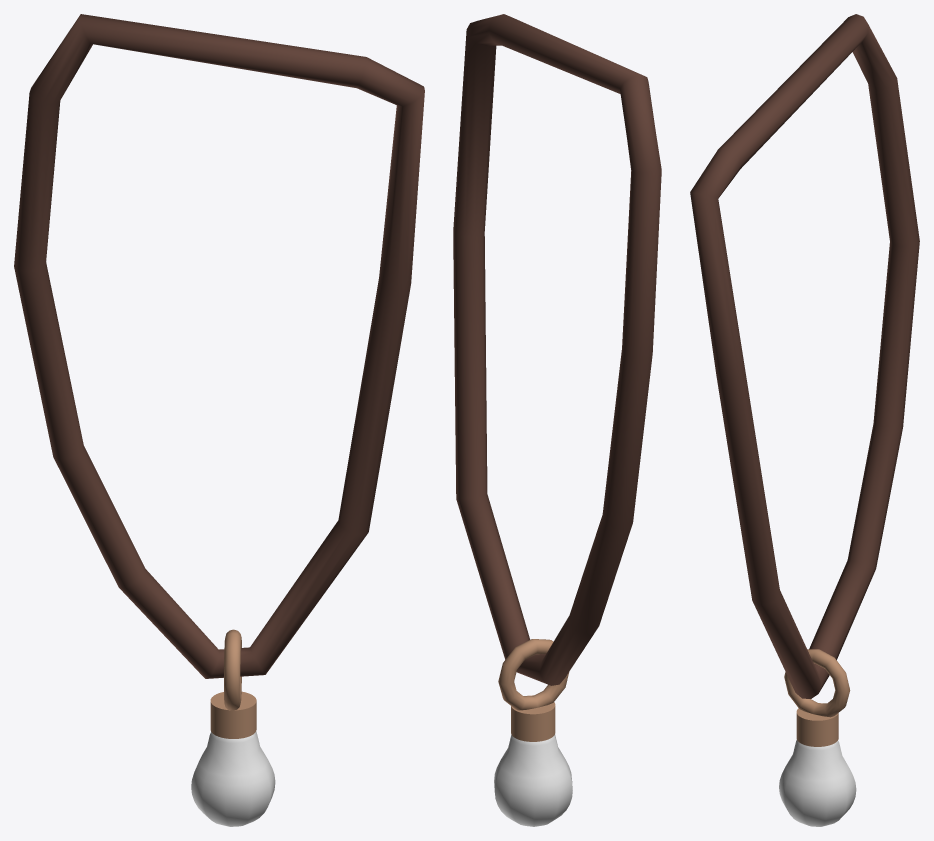
The model's file is SingleLight.fbx.
The picture shows the model from 3 angles, left to right: view 1: azimuth 30°, elevation 25°; view 2: azimuth 150°, elevation 25°; view 3: azimuth 270°, elevation 25°; orthographic projection. The views are drawn at different scales.
Visible parts, largest first — view 1: Lightcable.001, Lightbulb.008, Cylinder.077, Torus.008; view 2: Lightcable.001, Lightbulb.008, Torus.008, Cylinder.077; view 3: Lightcable.001, Lightbulb.008, Torus.008, Cylinder.077.
Boxes of the visible parts, left/top/right/bottom form: Lightcable.001: left=14, top=14, right=424, bottom=678; Lightbulb.008: left=191, top=731, right=275, bottom=826; Cylinder.077: left=210, top=691, right=256, bottom=738; Torus.008: left=224, top=629, right=241, bottom=710; Lightcable.001: left=453, top=14, right=661, bottom=685; Lightbulb.008: left=494, top=734, right=572, bottom=826; Torus.008: left=498, top=639, right=569, bottom=710; Cylinder.077: left=511, top=695, right=555, bottom=741; Lightcable.001: left=690, top=14, right=919, bottom=698; Lightbulb.008: left=779, top=740, right=856, bottom=826; Torus.008: left=784, top=649, right=850, bottom=717; Cylinder.077: left=796, top=703, right=838, bottom=746.
Bounding box in the file's own units: 22.43 × 59.25 × 16.44.
